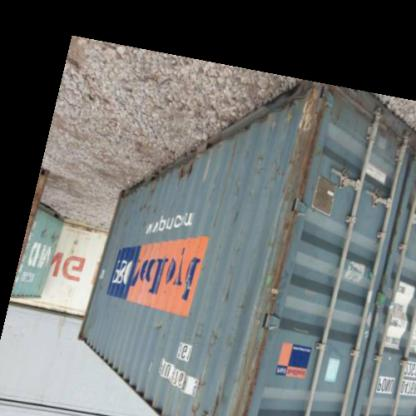Damage: (244, 149, 292, 195), (190, 322, 224, 362), (134, 180, 158, 228), (266, 99, 298, 131), (173, 163, 197, 187), (146, 320, 170, 342), (220, 283, 235, 318), (194, 372, 212, 396), (228, 208, 243, 232)
